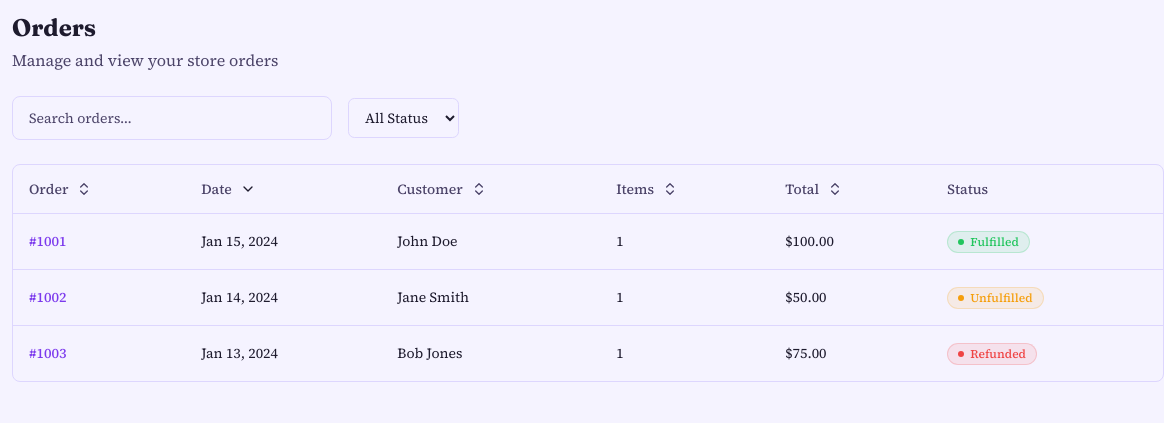
Scenario: OrdersPage › shows empty state when no orders match filters
The image size is (1164, 423).
In the field with placeholder "Search orders...": (172, 118) [12,96,332,140], type "nonexistent"
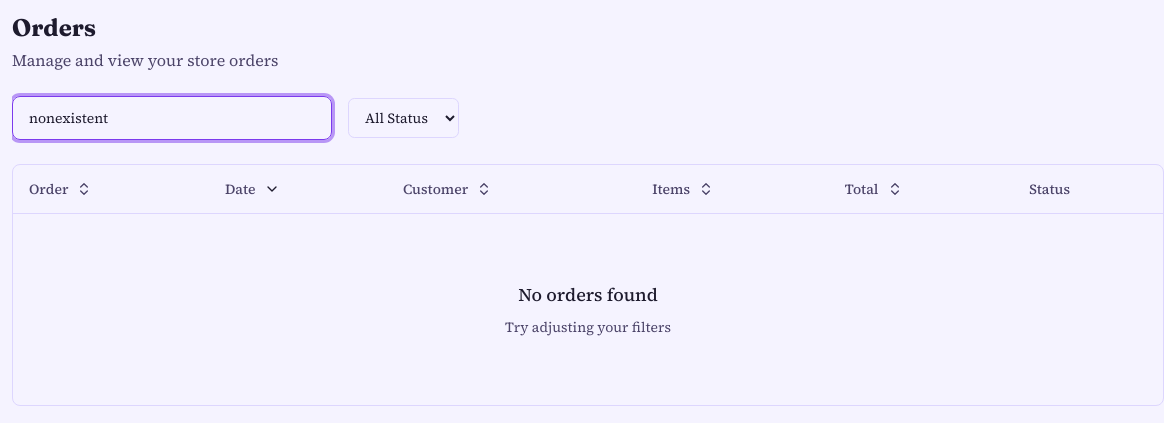
Result: the text "No orders found" is shown at [518,281,658,309]
